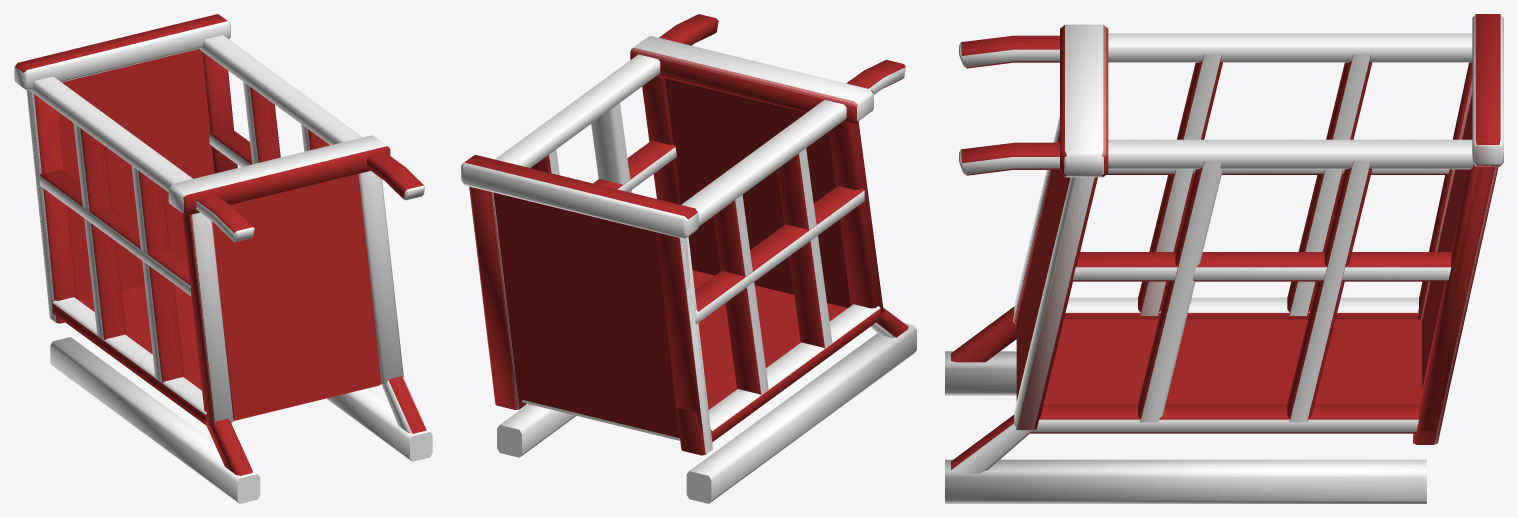
Rendered from shoppingCartCar.dae.
3 renders of one model, left to right at view 1: azimuth 30°, elevation 25°; view 2: azimuth 150°, elevation 25°; view 3: azimuth 270°, elevation 25°, orthographic. The views are drawn at different scales.
Parts seen in each view (by area): view 1: pCube35FBXASC046001; view 2: pCube35FBXASC046001; view 3: pCube35FBXASC046001.
Boxes of the visible parts, x1,y1,x2,y2 form: pCube35FBXASC046001: [14, 14, 432, 503]; pCube35FBXASC046001: [461, 14, 916, 503]; pCube35FBXASC046001: [945, 14, 1503, 503].
Size of the model in its own units: 5.85 by 7.7 by 10.65.
1 material, 1 textured.
